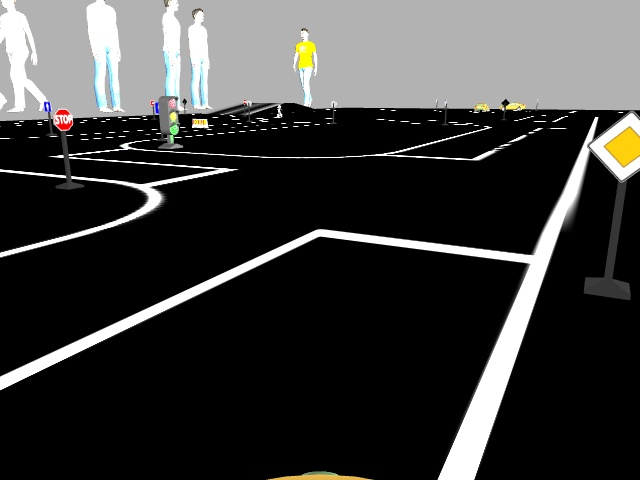ClosedRoadStand: (192, 116, 208, 126)
Priority: (590, 112, 639, 177)
Stop: (51, 110, 72, 128)
TrafficLight: (158, 96, 176, 136)
